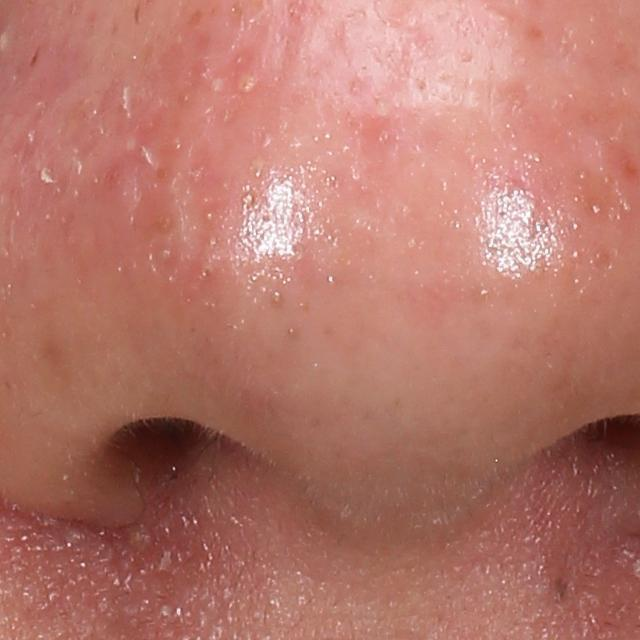nevus: (530, 558, 597, 608)
pustule: (234, 68, 262, 93)
